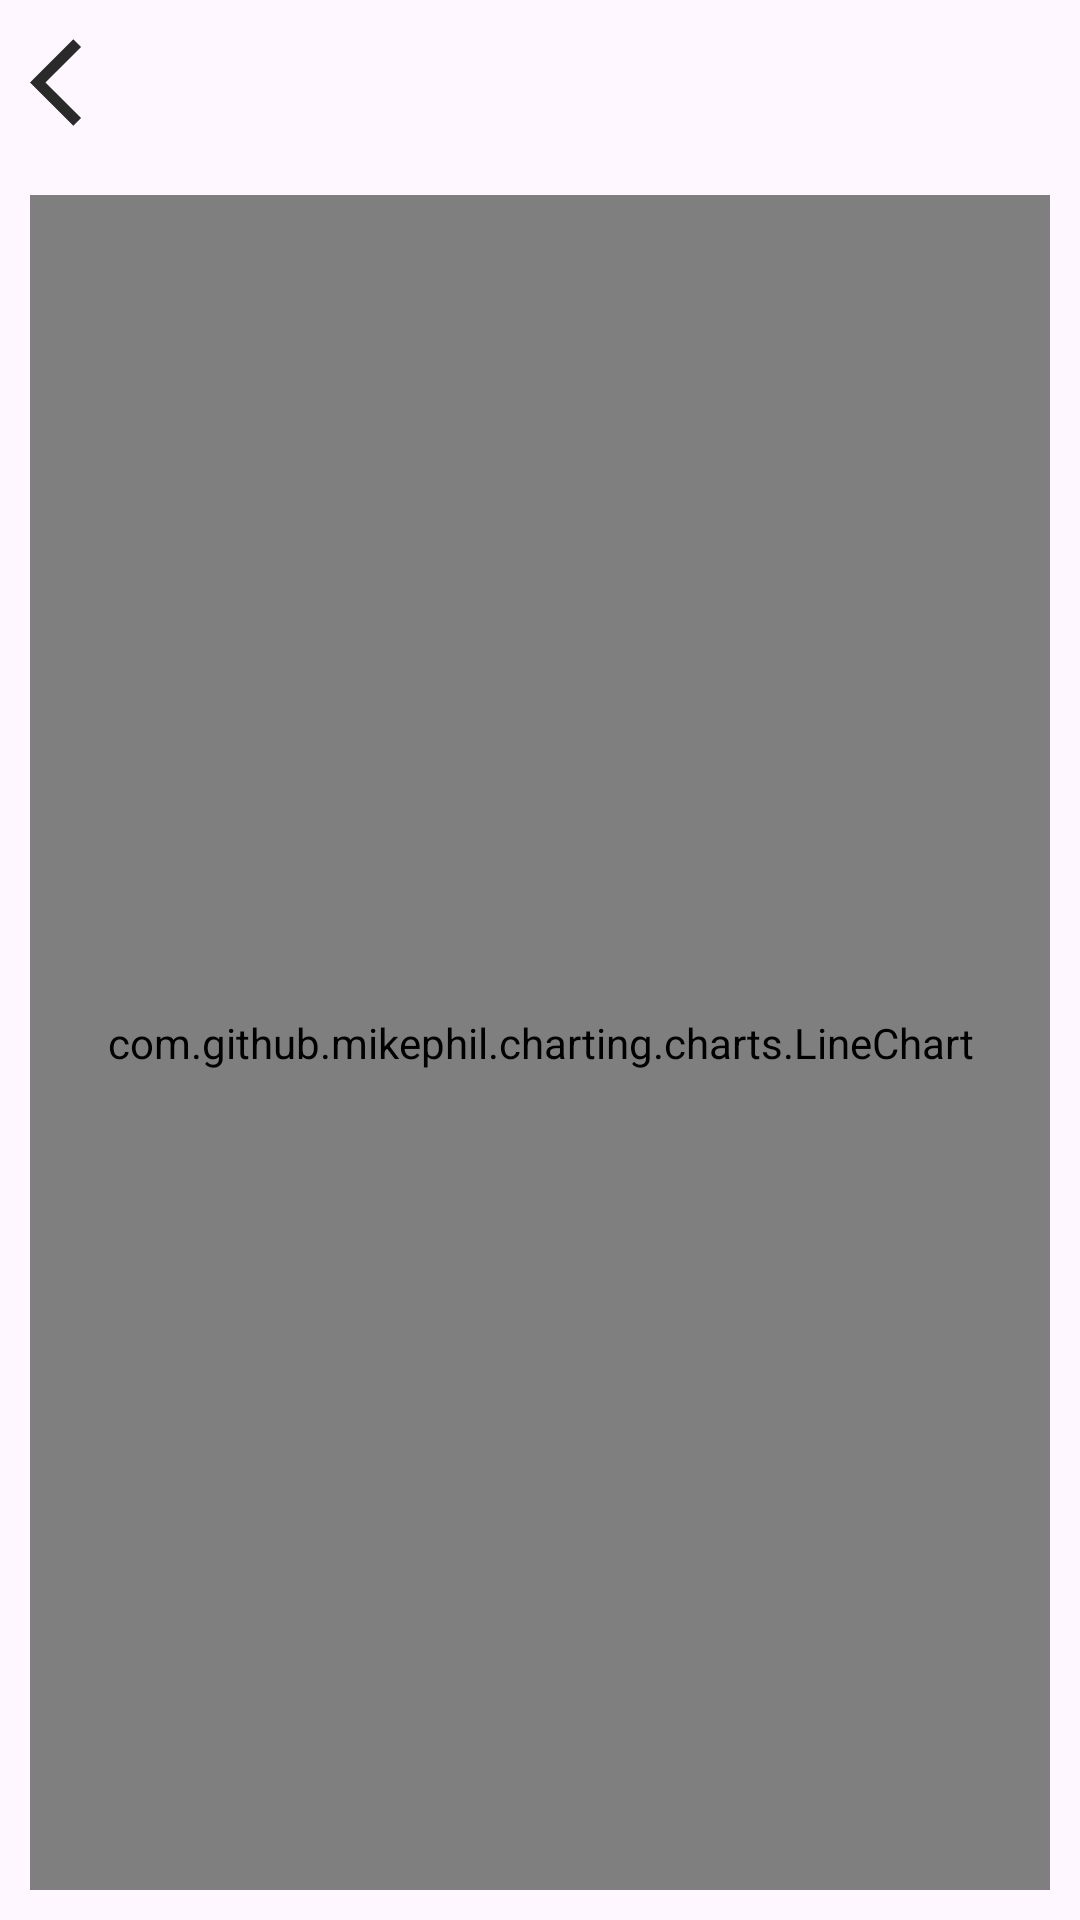

Where to tap for icons on this 1080 × 1920 app screen, as (x,y):
arrow back: (55,82)
